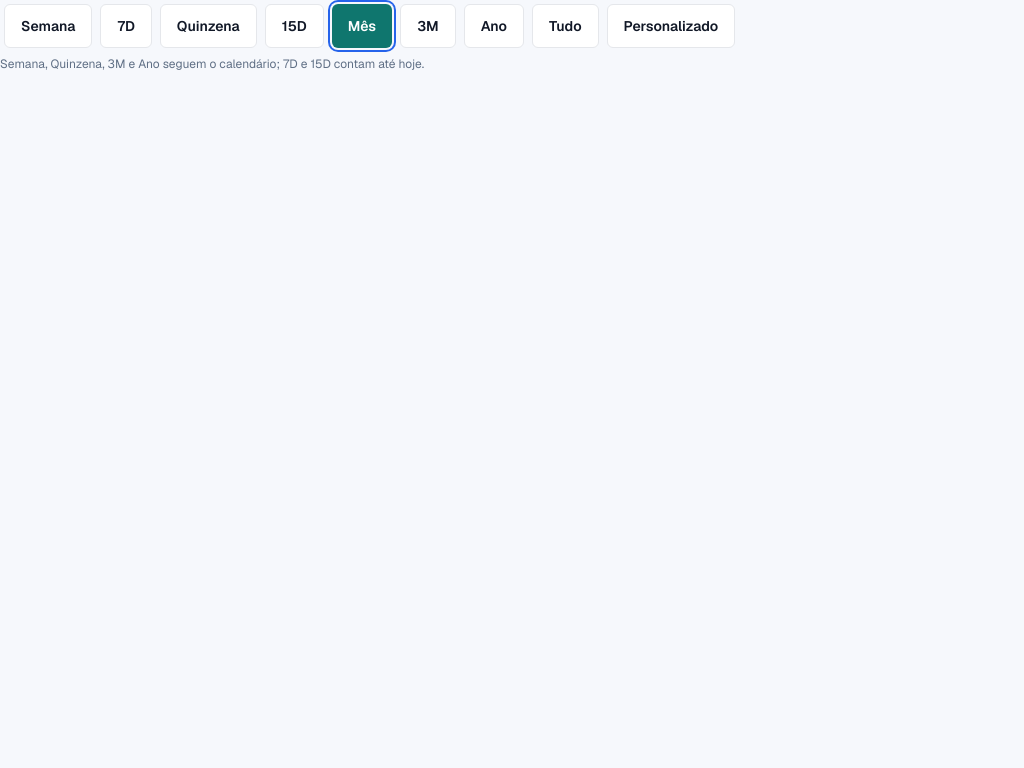
it: FinancialPeriodSelector › opens an accessible responsive dialog and focuses the initial date
Click the button with aria-label "Escolher período personalizado": [671, 26] box [607,4,735,48]
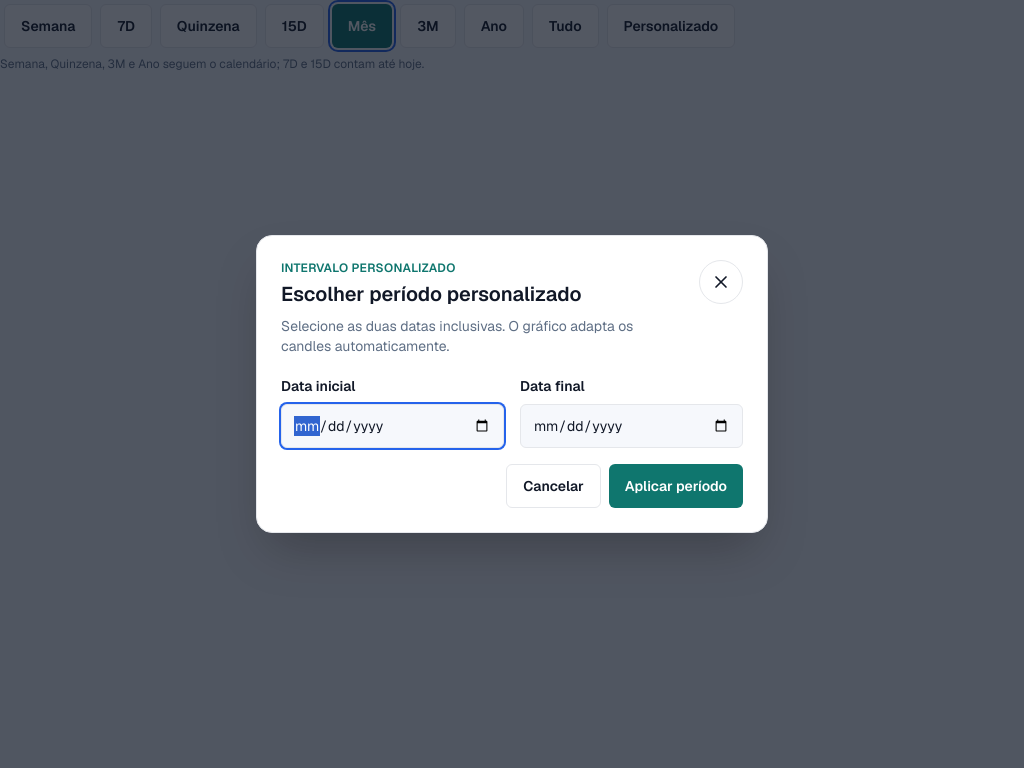
Check: the button with aria-label "Escolher período personalizado" is expanded, box [607,4,735,48]
